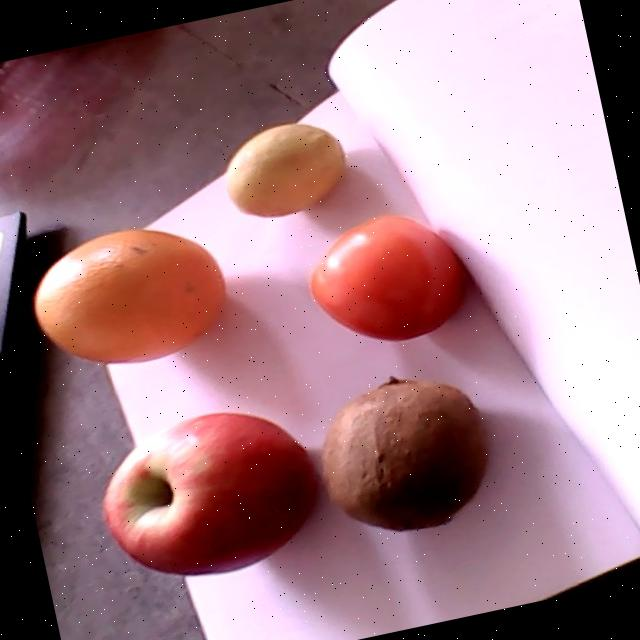apple: (103, 412, 319, 574)
kiwi: (321, 375, 490, 529)
lemon: (227, 123, 344, 216)
orange: (35, 228, 227, 362)
tomato: (311, 212, 469, 340)
